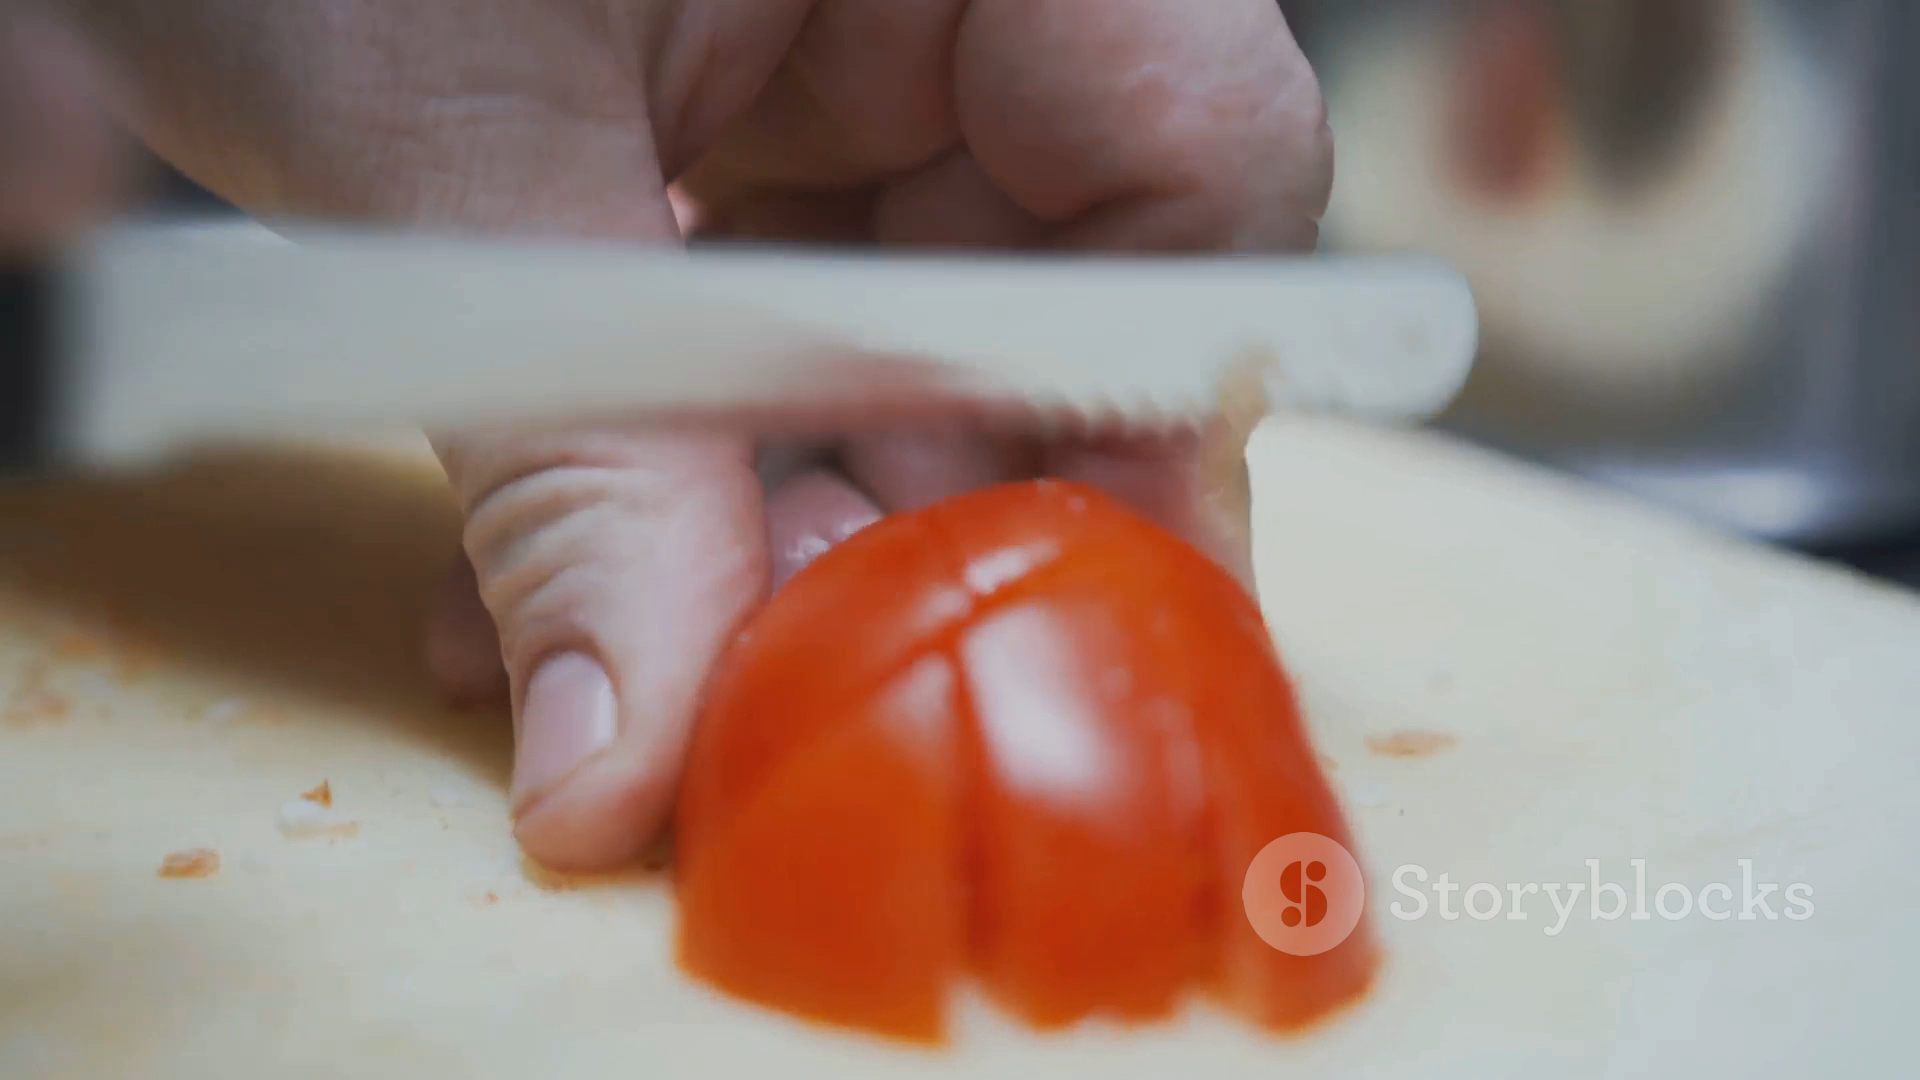cortante: (65, 229, 1482, 462)
